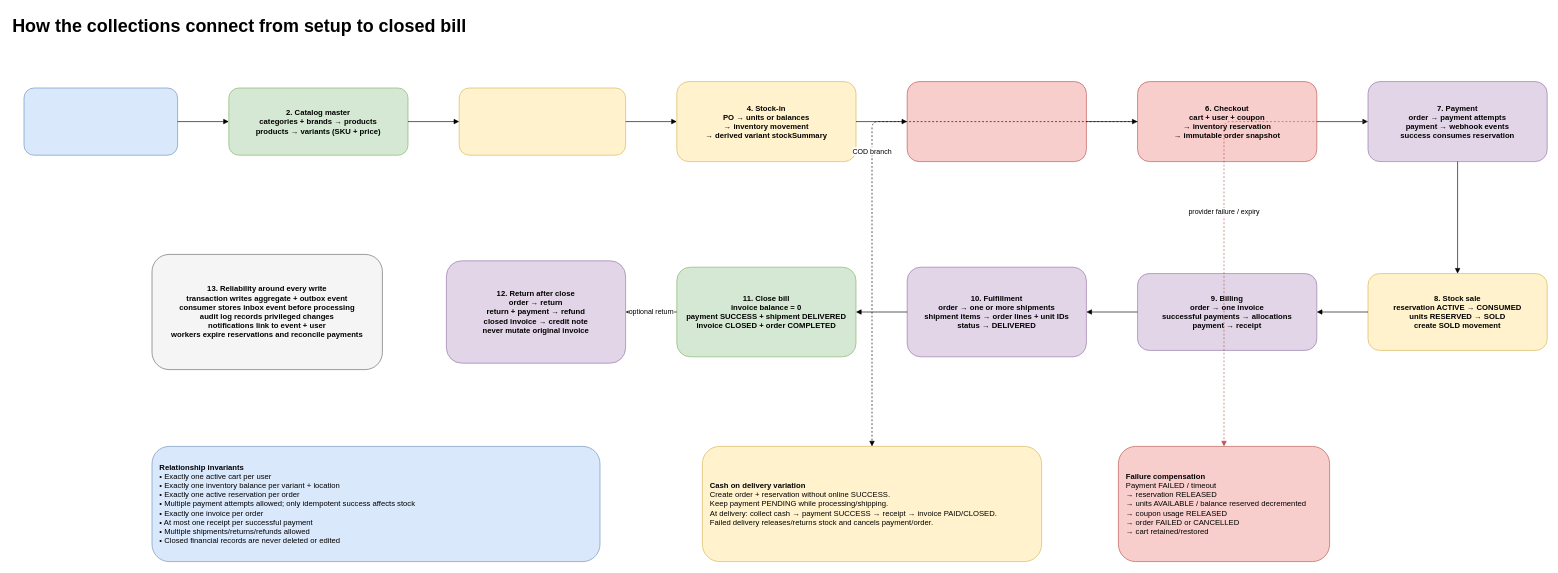
The diagram is 1558 pixels wide and 573 high, and some of its shapes have lost their labels. Here are the shapes that lost their labels. From the top down, the centre of each, then its label:
At point (100, 121): "1. Identity roles → users users → sessions + addresses".
At point (542, 121): "3. Procurement supplier + location + variant → purchase_order".
At point (996, 121): "5. Shopping user + variant → wishlist / cart cart → coupon + delivery setting".
